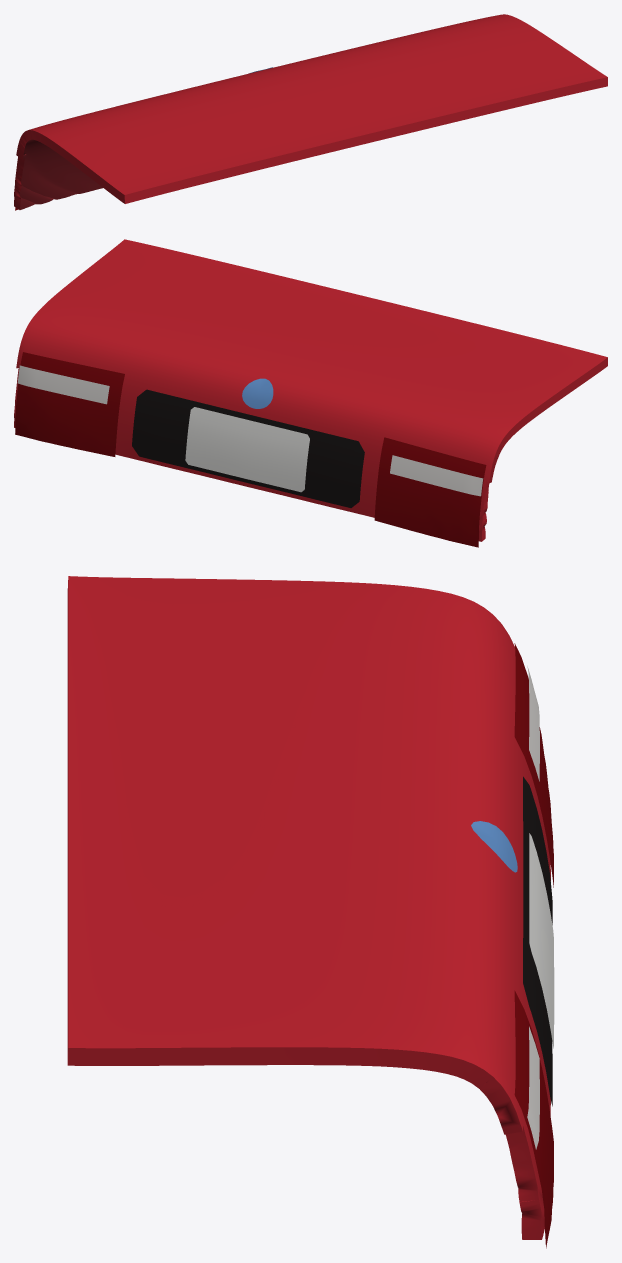
File: trunk.glb
3 views of the same model, one above another, from view 1: azimuth 30°, elevation 25°; view 2: azimuth 150°, elevation 25°; view 3: azimuth 270°, elevation 25° (orthographic). The views are drawn at different scales.
Parts seen in each view (by area): view 1: trunk; view 2: trunk; view 3: trunk.
Part boxes in pixels (x1,y1,x2,y2): trunk: (14, 14, 607, 210); trunk: (14, 239, 607, 547); trunk: (67, 576, 554, 1248).
Bounding box in the file's own units: 1.23 × 0.2604 × 0.5368.
